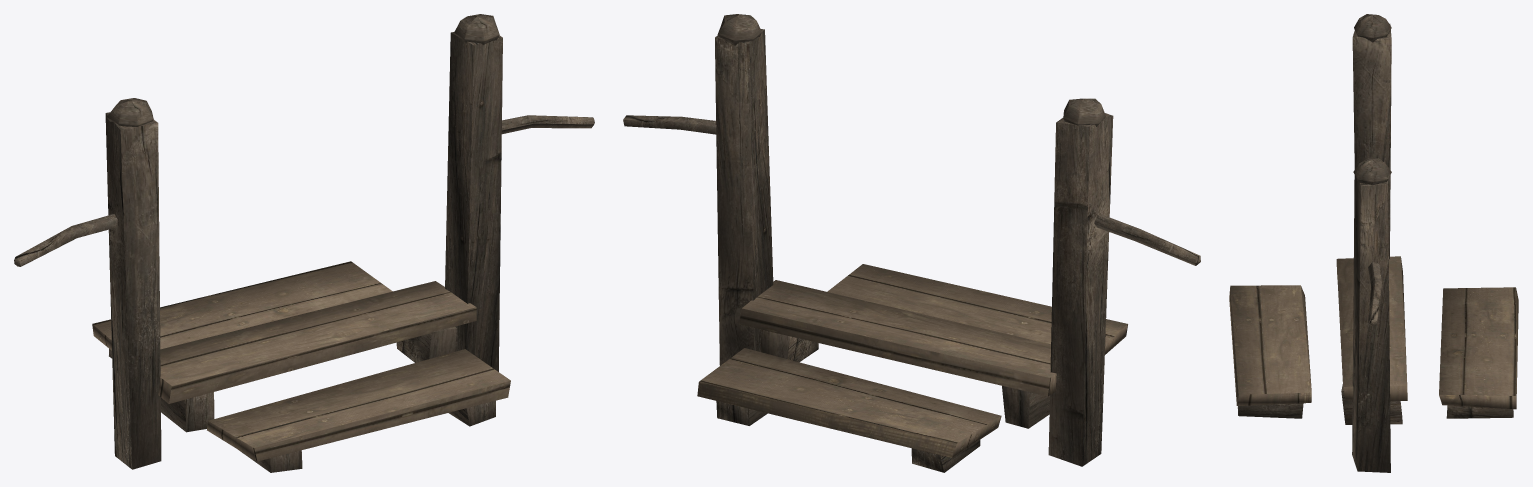
Rendered from kit_tw_stile.glb.
The picture shows the model from 3 angles, left to right: view 1: azimuth 30°, elevation 25°; view 2: azimuth 150°, elevation 25°; view 3: azimuth 270°, elevation 25°; orthographic projection. The views are drawn at different scales.
Parts seen in each view (by area): view 1: kit_tw_stile; view 2: kit_tw_stile; view 3: kit_tw_stile.
Boxes of the visible parts, bbox=[...] form: kit_tw_stile: bbox=[14, 14, 594, 472]; kit_tw_stile: bbox=[623, 14, 1200, 472]; kit_tw_stile: bbox=[1229, 14, 1518, 472].
Bounding box in the file's own units: 2.67 × 1.59 × 1.35.
1 material, 1 textured.
